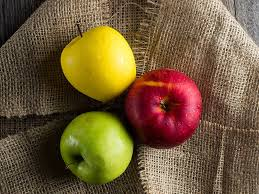apple: (57, 112, 140, 185), (126, 70, 206, 145), (60, 25, 135, 98)
